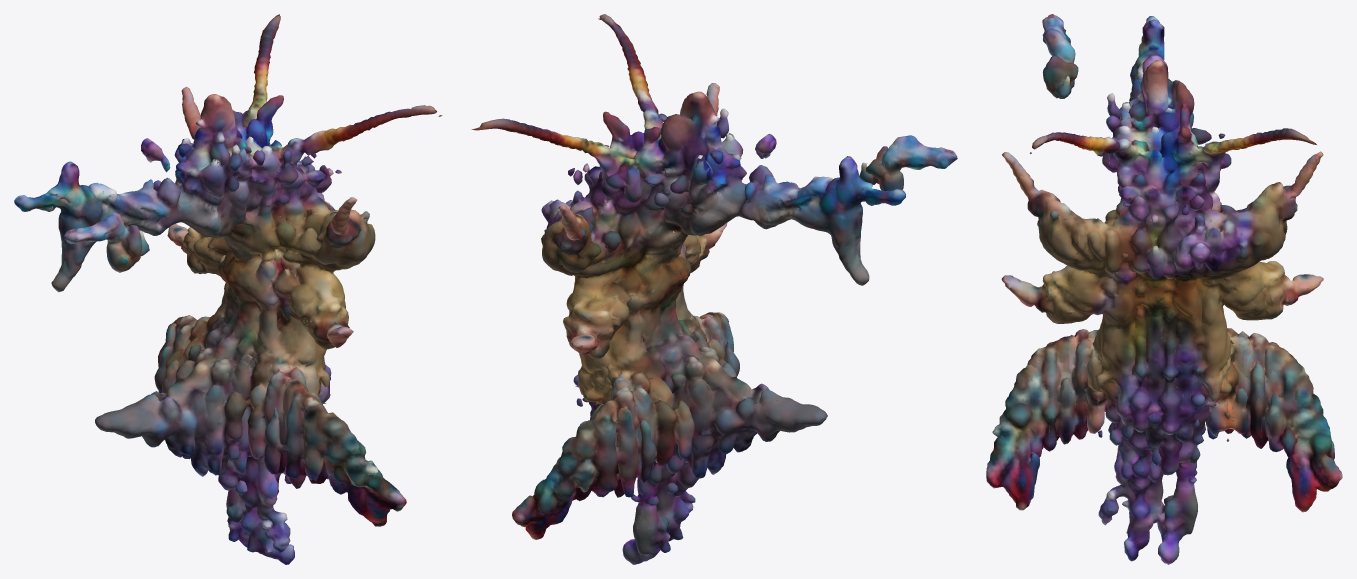
The picture shows the model from 3 angles, left to right: view 1: azimuth 30°, elevation 25°; view 2: azimuth 150°, elevation 25°; view 3: azimuth 270°, elevation 25°; orthographic projection.
Parts seen in each view (by area): view 1: tmpsb38wvok; view 2: tmpsb38wvok; view 3: tmpsb38wvok.
Part boxes in pixels (x1,y1,x2,y2): tmpsb38wvok: (14,14,442,564); tmpsb38wvok: (471,14,957,564); tmpsb38wvok: (986,14,1342,564).
Bounding box in the file's own units: 1.55 × 1.92 × 1.31.
1 material, 1 textured.
